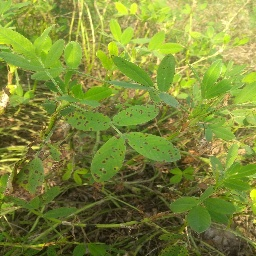GroundNut_Leaf: (4, 157, 42, 211), (128, 131, 181, 161), (92, 136, 125, 181), (111, 54, 155, 87), (1, 28, 36, 61), (65, 110, 111, 133), (201, 58, 223, 97), (118, 105, 161, 123), (150, 30, 182, 54), (82, 86, 116, 108), (156, 55, 176, 89), (43, 37, 65, 67), (186, 208, 211, 232), (66, 40, 82, 75), (223, 142, 239, 170), (167, 196, 201, 206), (204, 198, 234, 208), (109, 18, 121, 38), (123, 26, 135, 46)
